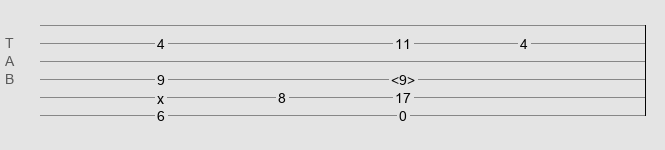0: (399, 108, 407, 118)
11: (395, 36, 411, 46)
17: (395, 90, 411, 100)
4: (157, 36, 165, 46), (520, 36, 528, 46)
6: (157, 108, 165, 118)
8: (278, 90, 286, 100)
9: (157, 72, 165, 82)
harmonic: (391, 72, 415, 82)
x: (157, 91, 164, 99)
